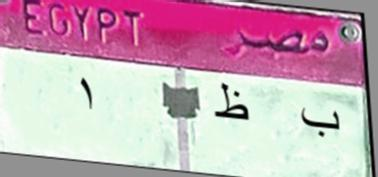1: (69, 72, 102, 118)
Thaa: (210, 78, 256, 132)
baa: (297, 94, 352, 146)
